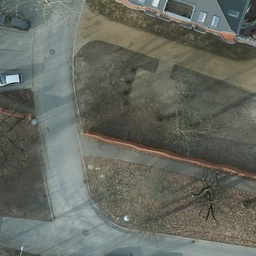car: (1, 14, 31, 32), (1, 70, 21, 87)
